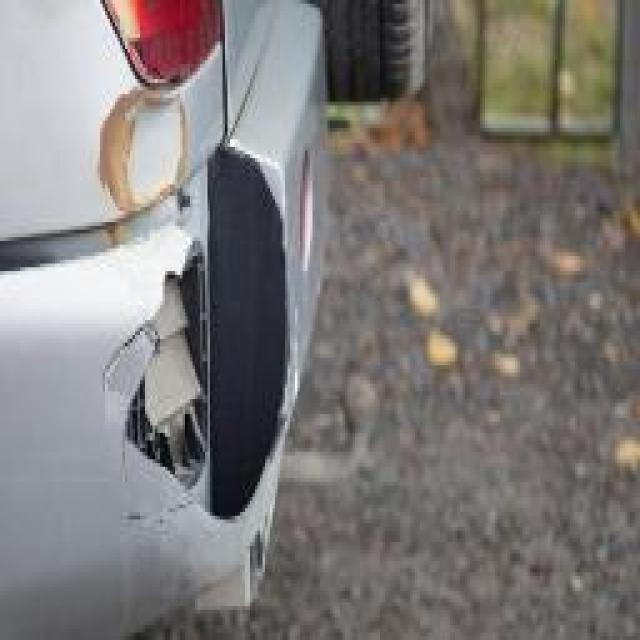Bumper: (82, 94, 292, 617)
